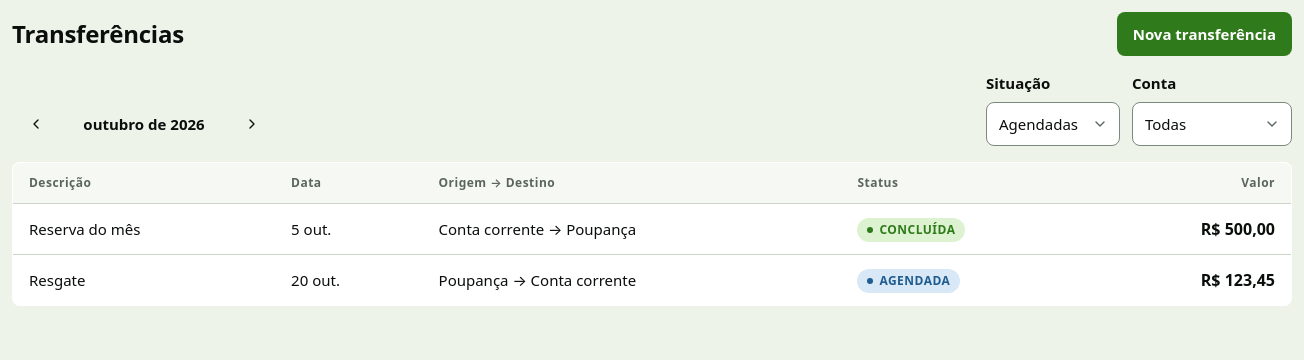
Test: TransfersPage (spec 0018) › sends the status filter and changes the filters and the month through the search
Expected: the table is shown, [12,162,1292,306]
Select "Todas" in the dropdown labelled "Situação": (1053, 124) [986,102,1120,146]
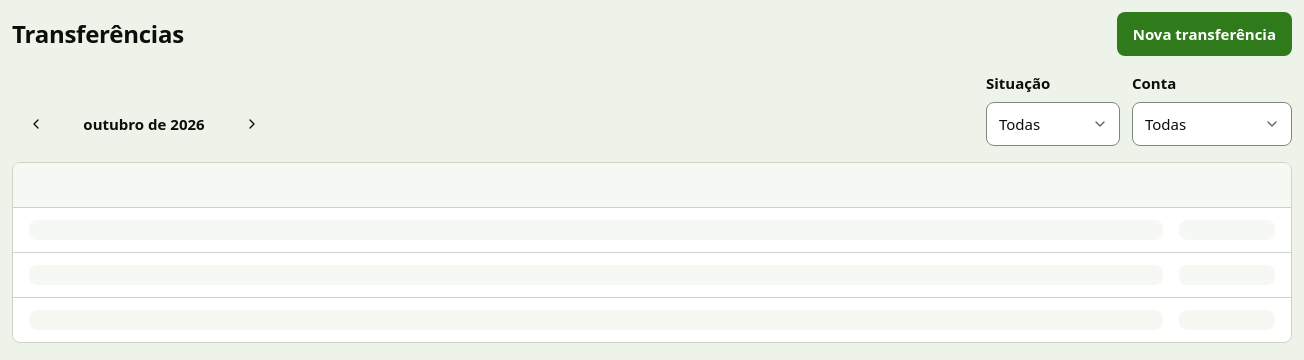
Select "Poupança" in the dropdown labelled "Conta": (1212, 124) [1132,102,1292,146]
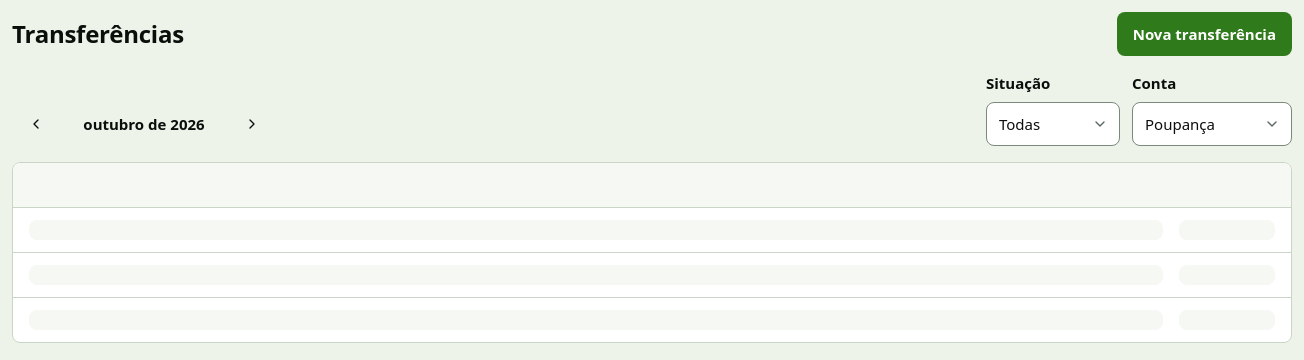
Click the button named "Próximo mês": (252, 124) [228,102,276,146]
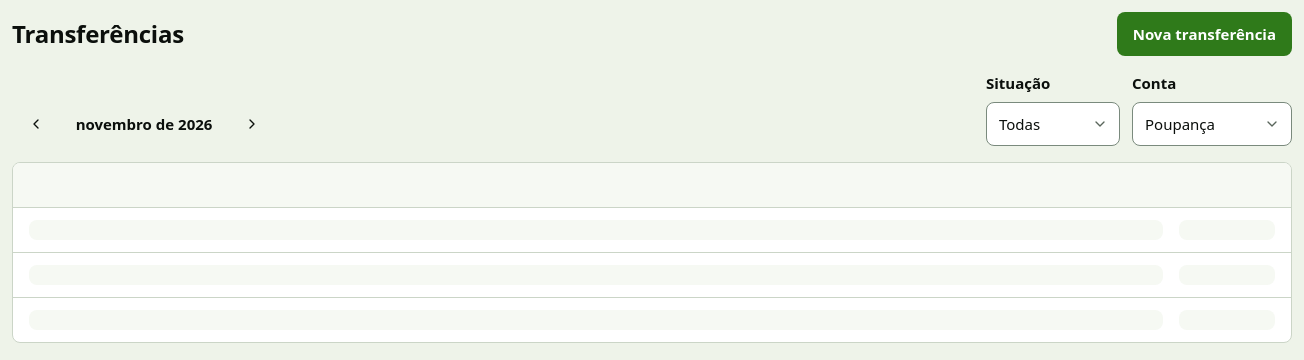
Click the button named "Mês anterior": (36, 124) [12,102,60,146]
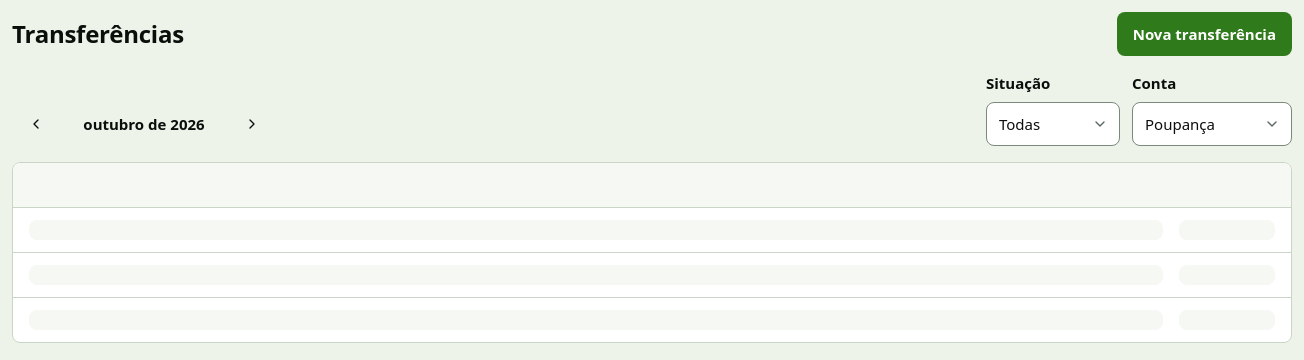
Click the button named "Mês anterior": (36, 124) [12,102,60,146]
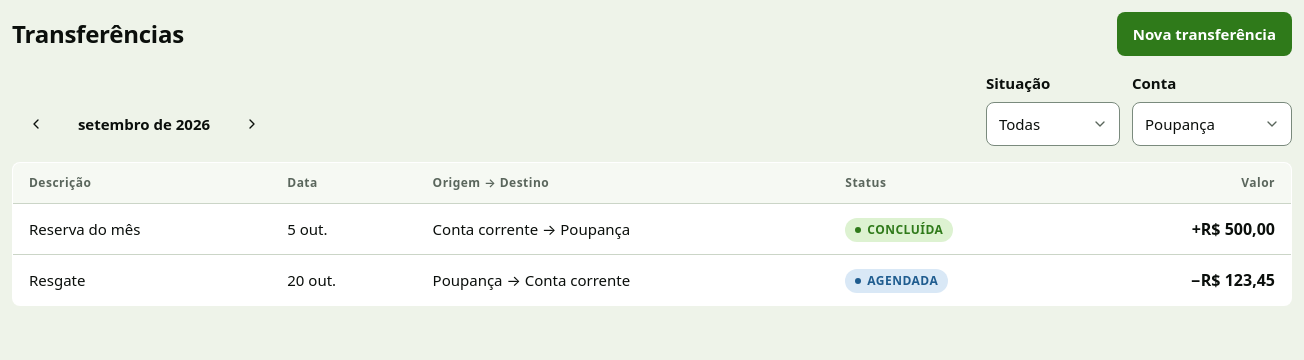
Now the text "setembro de 2026" is shown, box [78,114,210,134]
